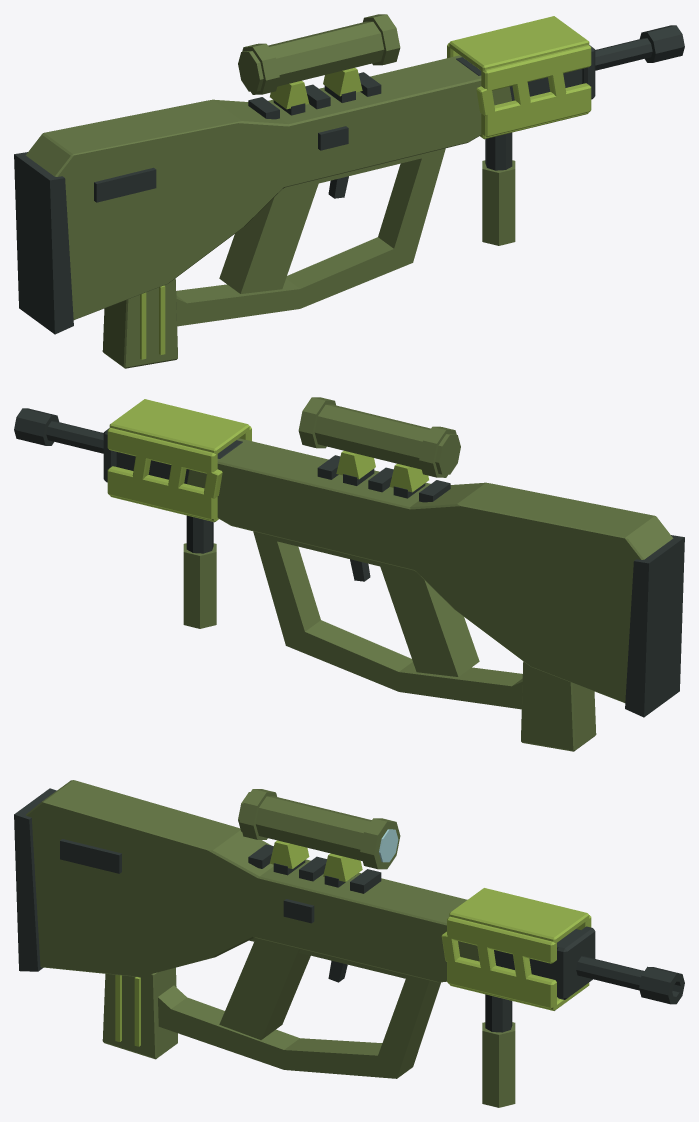
The picture shows the model from 3 angles, top to bottom: view 1: azimuth 30°, elevation 25°; view 2: azimuth 150°, elevation 25°; view 3: azimuth 330°, elevation 25°; orthographic projection.
Visible parts, largest first — view 1: Corpo bullpup, Contorno aberto, Apoio posterior, Empunhadura central, Mira octogonal, Carregador posterior, Tampa frontal superior, Placa inferior frontal, Apoio facetado, Placa superior frontal, Painel posterior, Haste frontal (+8 smaller); view 2: Corpo bullpup, Contorno aberto, Apoio posterior, Empunhadura central, Mira octogonal, Carregador posterior, Tampa frontal superior, Placa inferior frontal.001, Apoio facetado, Placa superior frontal.001, Haste frontal, Terminal (+6 smaller); view 3: Corpo bullpup, Contorno aberto, Empunhadura central, Mira octogonal, Carregador posterior, Tampa frontal superior, Apoio posterior, Placa inferior frontal, Apoio facetado, Placa superior frontal, Acoplamento frontal, Terminal (+11 smaller).
Part boxes in pixels (x1,y1,x2,y2): Corpo bullpup: (25, 55, 511, 319); Contorno aberto: (176, 148, 445, 326); Apoio posterior: (14, 152, 73, 334); Empunhadura central: (219, 179, 319, 293); Mira octogonal: (238, 21, 384, 91); Carregador posterior: (102, 278, 177, 368); Tampa frontal superior: (449, 16, 589, 71); Placa inferior frontal: (481, 83, 591, 137); Apoio facetado: (482, 160, 515, 245); Placa superior frontal: (481, 45, 591, 90); Painel posterior: (94, 167, 156, 202); Haste frontal: (595, 38, 652, 70); Corpo bullpup: (187, 438, 673, 702); Contorno aberto: (253, 531, 522, 709); Apoio posterior: (625, 535, 684, 717); Empunhadura central: (379, 562, 479, 676); Mira octogonal: (314, 404, 460, 474); Carregador posterior: (521, 661, 596, 751); Tampa frontal superior: (109, 399, 249, 454); Placa inferior frontal.001: (107, 466, 217, 520); Apoio facetado: (183, 543, 216, 628); Placa superior frontal.001: (107, 428, 217, 473); Haste frontal: (46, 421, 103, 453); Terminal: (14, 408, 59, 445); Corpo bullpup: (26, 780, 479, 982); Contorno aberto: (158, 938, 440, 1078); Empunhadura central: (219, 938, 310, 1039); Mira octogonal: (238, 792, 396, 865); Carregador posterior: (102, 967, 177, 1059); Tampa frontal superior: (449, 888, 589, 943); Apoio posterior: (14, 788, 56, 971); Placa inferior frontal: (447, 957, 556, 1008); Apoio facetado: (482, 1022, 515, 1107); Placa superior frontal: (447, 916, 556, 963); Acoplamento frontal: (556, 926, 595, 999); Terminal: (639, 966, 684, 1004).
Bounding box in the file's own units: 5.08 × 2.14 × 0.545.
